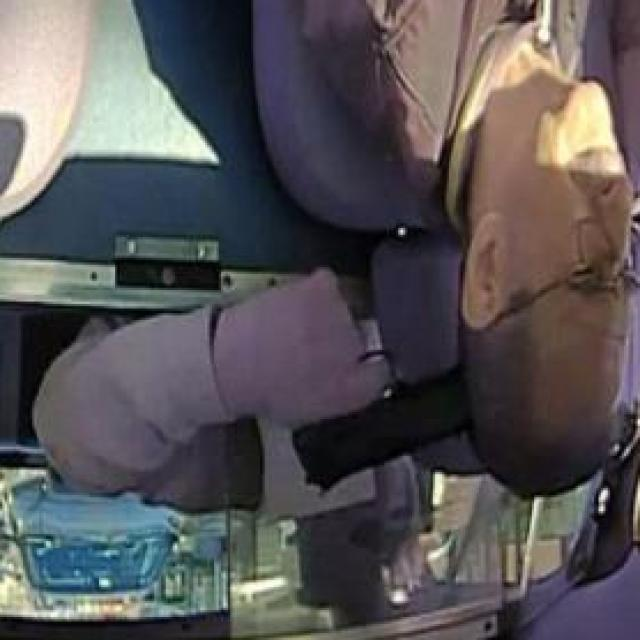pistol: (281, 270, 473, 500)
